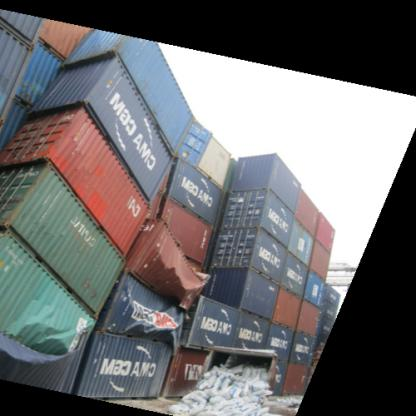Damage: (0, 294, 92, 376), (132, 223, 208, 296), (195, 343, 279, 406), (106, 296, 184, 342)
